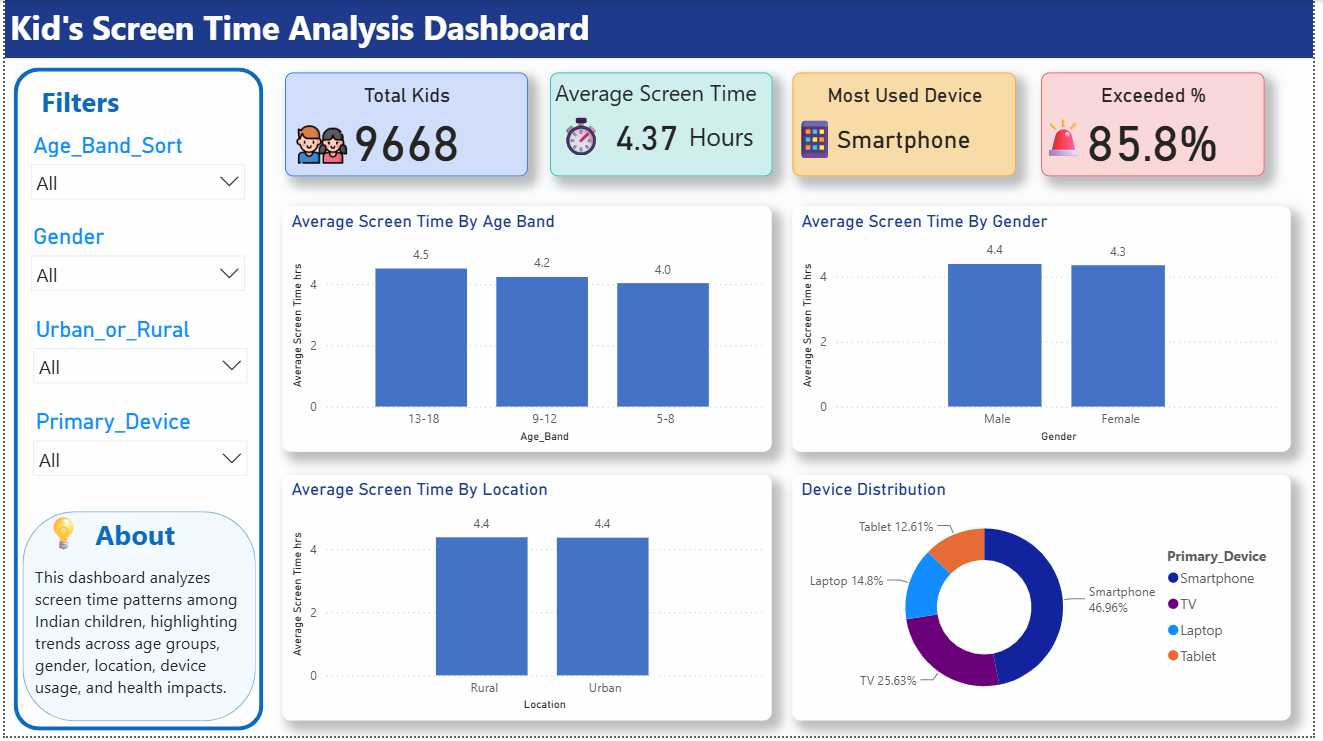

What the dashboard file says about the page in this screenshot:
{"tool":"powerbi","page":{"name":"Overview","canvas":[1280,720],"ordinal":0},"visuals":[{"type":"textbox","box":[0,0,1280,57.1],"z":0},{"type":"card","title":"Total Kids","fields":{"Values":["CountNonNull(ScreenSense_Cleaned_Dataset.Age)"]},"box":[273.9,70.9,237.2,101.5],"z":1000},{"type":"columnChart","title":"Average Screen Time By Age Band","fields":{"Category":["ScreenSense_Cleaned_Dataset.Age_Band"],"Y":["Avg(ScreenSense_Cleaned_Dataset.Avg_Daily_Screen_Time_hr)"]},"box":[271.4,201.4,478.6,240],"z":2000},{"type":"columnChart","title":"Average Screen Time By Gender","fields":{"Y":["Avg(ScreenSense_Cleaned_Dataset.Avg_Daily_Screen_Time_hr)"],"Category":["ScreenSense_Cleaned_Dataset.Gender"]},"box":[770,201.4,487.1,240],"z":3000},{"type":"columnChart","title":"Average Screen Time By Location","fields":{"Y":["Avg(ScreenSense_Cleaned_Dataset.Avg_Daily_Screen_Time_hr)"],"Category":["ScreenSense_Cleaned_Dataset.Urban_or_Rural"]},"box":[271.2,465,478.8,240],"z":4000},{"type":"donutChart","title":"Device Distribution","fields":{"Category":["ScreenSense_Cleaned_Dataset.Primary_Device"],"Y":["CountNonNull(ScreenSense_Cleaned_Dataset.Primary_Device)"]},"box":[770,465,487.5,240],"z":5000},{"type":"card","title":"Exceeded % ","fields":{"Values":["ScreenSense_Cleaned_Dataset.Exceeded_Percentage"]},"box":[1014.3,71.4,218,101.4],"z":6000},{"type":"card","title":"Most Used Device","fields":{"Values":["ScreenSense_Cleaned_Dataset.Most Used Device"]},"box":[770,71.4,218.6,101.4],"z":7000},{"type":"shape","box":[15.9,500.1,228.7,205.4],"z":8000},{"type":"shape","box":[8.9,65.7,244.3,648.6],"z":8500,"group":"g1"},{"type":"textbox","box":[761.8,105.2,75.8,62.4],"z":9000},{"type":"slicer","fields":{"Values":["ScreenSense_Cleaned_Dataset.Age_Band_Sort"]},"box":[14.9,124.6,230,90],"z":9000,"group":"g1"},{"type":"image","box":[271.5,116.2,77,50.1],"z":10000},{"type":"slicer","fields":{"Values":["ScreenSense_Cleaned_Dataset.Gender"]},"box":[14.6,214.3,230,90],"z":10000,"group":"g1"},{"type":"textbox","box":[1005.4,103,68.3,80.7],"z":11000},{"type":"slicer","fields":{"Values":["ScreenSense_Cleaned_Dataset.Urban_or_Rural"]},"box":[17.5,304.3,230,90],"z":11000,"group":"g1"},{"type":"shape","box":[533.2,70.9,217.7,101.5],"z":12000},{"type":"slicer","fields":{"Values":["ScreenSense_Cleaned_Dataset.Primary_Device"]},"box":[17.5,394.3,230,90],"z":12000,"group":"g1"},{"type":"textbox","box":[30.3,75.7,115.7,48.6],"z":13000,"group":"g1"},{"type":"textbox","box":[664,112.5,86.8,50.1],"z":13000},{"type":"textbox","box":[533.2,101.5,70.9,67.3],"z":14000},{"type":"textbox","box":[24.6,547.1,211.4,152.9],"z":14000,"group":"g1"},{"type":"card","title":"Average ScreenTime","fields":{"Values":["Avg(ScreenSense_Cleaned_Dataset.Avg_Daily_Screen_Time_hr)"]},"box":[584.5,101.5,86.8,55],"z":15000},{"type":"textbox","box":[30.3,494.3,164.3,52.9],"z":15000,"group":"g1"},{"type":"textbox","box":[533.2,70.9,228.7,56.3],"z":16000},{"type":"group","id":"g1","title":"Group 1","box":[8.9,65.7,244.3,648.6],"z":17000}]}

Visuals, with their boxes in screenshot pixels (x1, y1, x2, y2), scaled from the page's 1280x720 canvas onto the 1323x741 screenshot:
textbox: pyautogui.locateOnScreen(0, 0, 1322, 59)
"Total Kids" card: pyautogui.locateOnScreen(283, 73, 528, 177)
"Average Screen Time By Age Band" columnChart: pyautogui.locateOnScreen(281, 207, 775, 454)
"Average Screen Time By Gender" columnChart: pyautogui.locateOnScreen(796, 207, 1299, 454)
"Average Screen Time By Location" columnChart: pyautogui.locateOnScreen(280, 479, 775, 726)
"Device Distribution" donutChart: pyautogui.locateOnScreen(796, 479, 1300, 726)
"Exceeded % " card: pyautogui.locateOnScreen(1048, 73, 1274, 178)
"Most Used Device" card: pyautogui.locateOnScreen(796, 73, 1022, 178)
shape: pyautogui.locateOnScreen(16, 515, 253, 726)
shape: pyautogui.locateOnScreen(9, 68, 262, 735)
textbox: pyautogui.locateOnScreen(787, 108, 866, 172)
slicer - ScreenSense_Cleaned_Dataset.Age_Band_Sort: pyautogui.locateOnScreen(15, 128, 253, 221)
image: pyautogui.locateOnScreen(281, 120, 360, 171)
slicer - ScreenSense_Cleaned_Dataset.Gender: pyautogui.locateOnScreen(15, 221, 253, 313)
textbox: pyautogui.locateOnScreen(1039, 106, 1110, 189)
slicer - ScreenSense_Cleaned_Dataset.Urban_or_Rural: pyautogui.locateOnScreen(18, 313, 256, 406)
shape: pyautogui.locateOnScreen(551, 73, 776, 177)
slicer - ScreenSense_Cleaned_Dataset.Primary_Device: pyautogui.locateOnScreen(18, 406, 256, 498)
textbox: pyautogui.locateOnScreen(31, 78, 151, 128)
textbox: pyautogui.locateOnScreen(686, 116, 776, 167)
textbox: pyautogui.locateOnScreen(551, 104, 624, 174)
textbox: pyautogui.locateOnScreen(25, 563, 244, 720)
"Average ScreenTime" card: pyautogui.locateOnScreen(604, 104, 694, 161)
textbox: pyautogui.locateOnScreen(31, 509, 201, 563)
textbox: pyautogui.locateOnScreen(551, 73, 787, 131)
"Group 1" group: pyautogui.locateOnScreen(9, 68, 262, 735)
